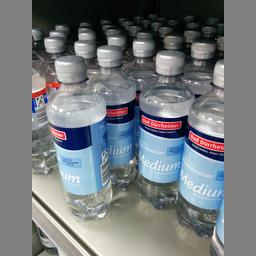water: (45, 55, 112, 223), (134, 49, 192, 209), (175, 57, 223, 233), (92, 44, 134, 190)
